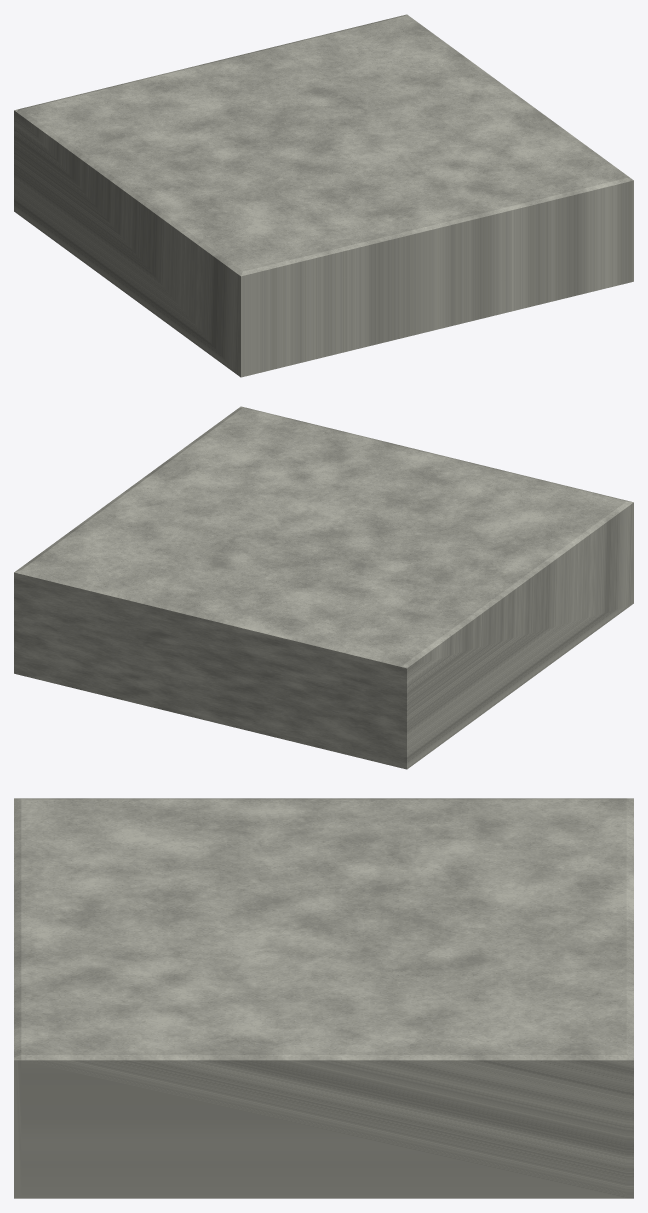
The model's file is PZ_Pavement_1x1.glb.
The picture shows the model from 3 angles, top to bottom: view 1: azimuth 30°, elevation 25°; view 2: azimuth 150°, elevation 25°; view 3: azimuth 270°, elevation 25°; orthographic projection. The views are drawn at different scales.
Parts seen in each view (by area): view 1: PZ_Pavement_1x1__Slab_Main; view 2: PZ_Pavement_1x1__Slab_Main; view 3: PZ_Pavement_1x1__Slab_Main.
Boxes of the visible parts, x1,y1,x2,y2 form: PZ_Pavement_1x1__Slab_Main: (14, 14, 633, 377); PZ_Pavement_1x1__Slab_Main: (14, 406, 633, 769); PZ_Pavement_1x1__Slab_Main: (14, 798, 633, 1198).
Size of the model in its own units: 1 by 0.25 by 1.
1 material, 1 textured.
